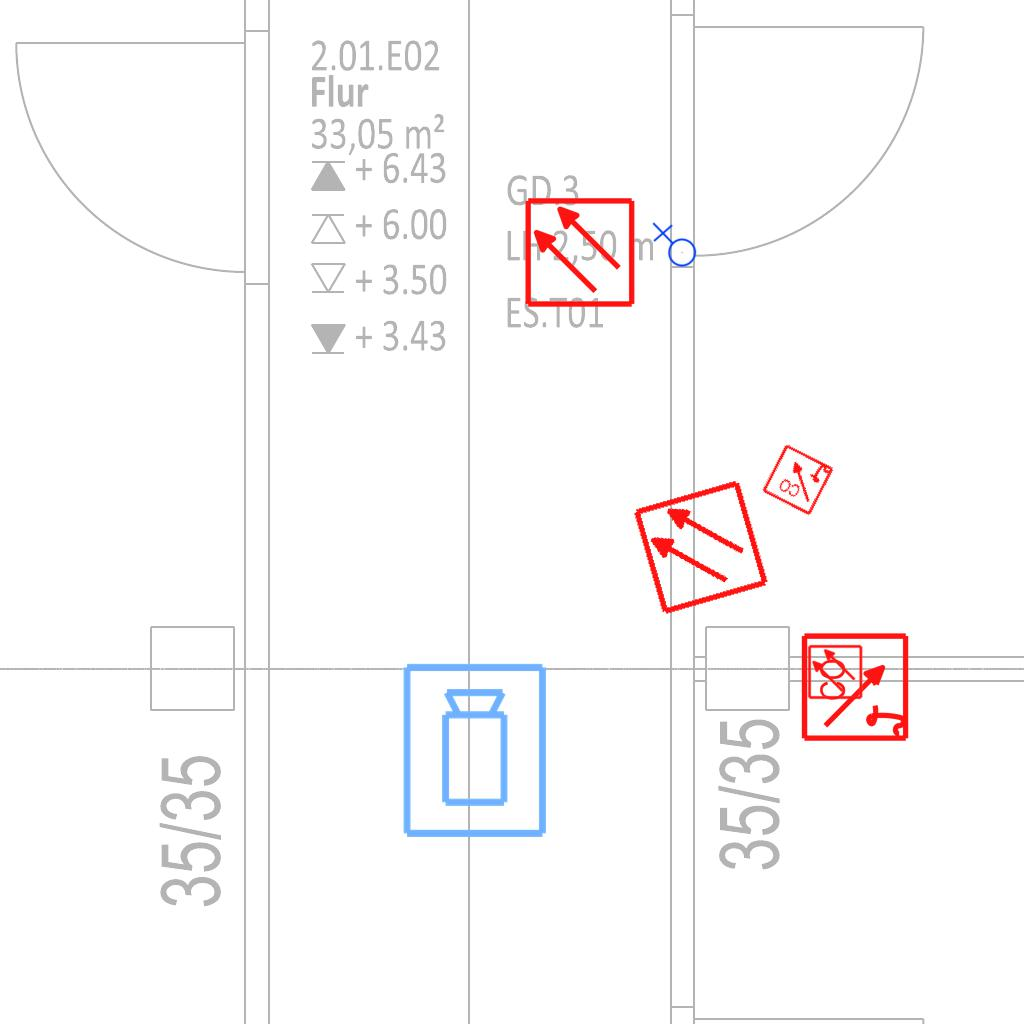Elektroanschluss_allgemein_230V_Geraeteanschlussdose_230V: (650, 222, 697, 271)
KFO_Kamera_mit_Festobjektiv: (399, 660, 553, 842)
RMO_Rauchmelder_optischer: (630, 477, 771, 618), (523, 196, 636, 309), (807, 644, 863, 700)
ROA_Rauchmelder_optisch_mit_Signalgeber_(Sockelsirene): (800, 630, 913, 743), (760, 441, 836, 517)
